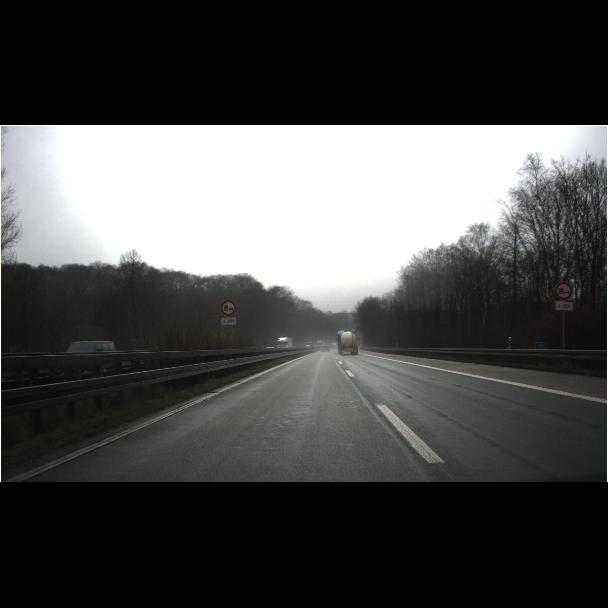no overtaking (trucks): (220, 281, 573, 317)
